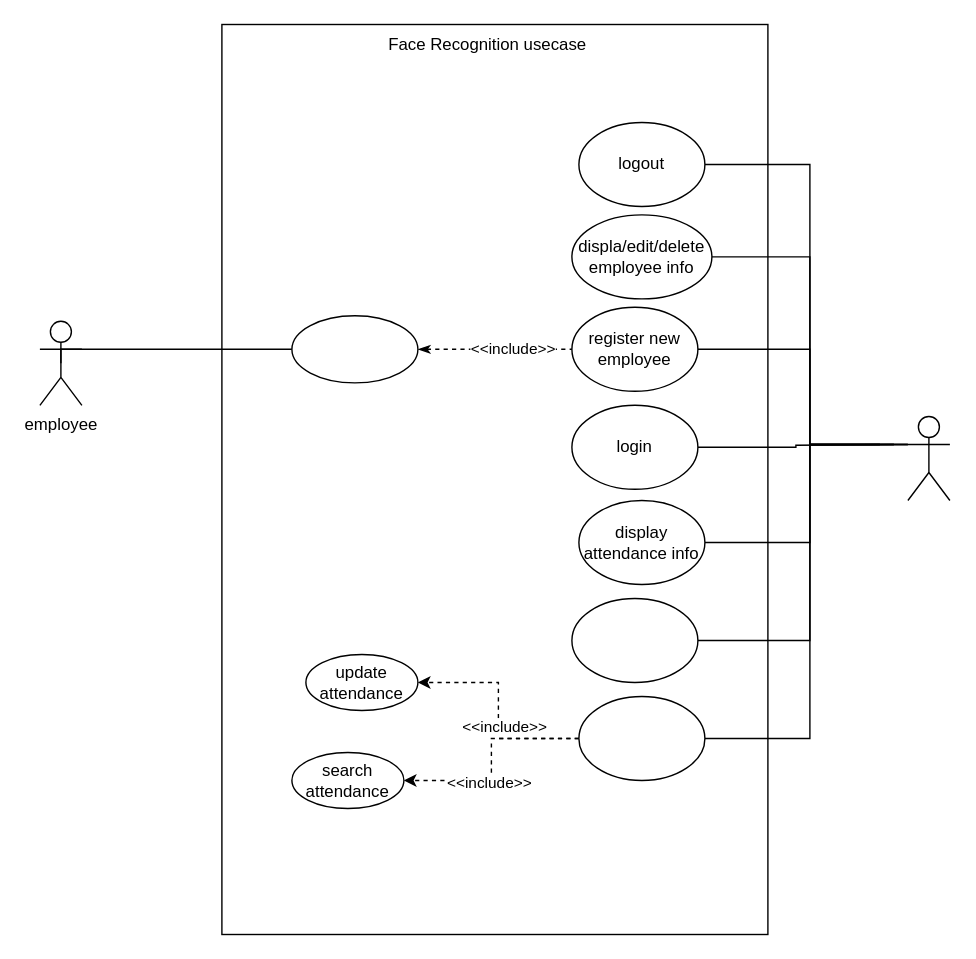
Image size: 976x959. Some labels were removed from this diagram. The centre of each missing label's shape, as x and y in pixels:
admin: (x=928, y=457)
attendance data: (x=641, y=737)
generate report: (x=634, y=639)
scan face: (x=354, y=348)
